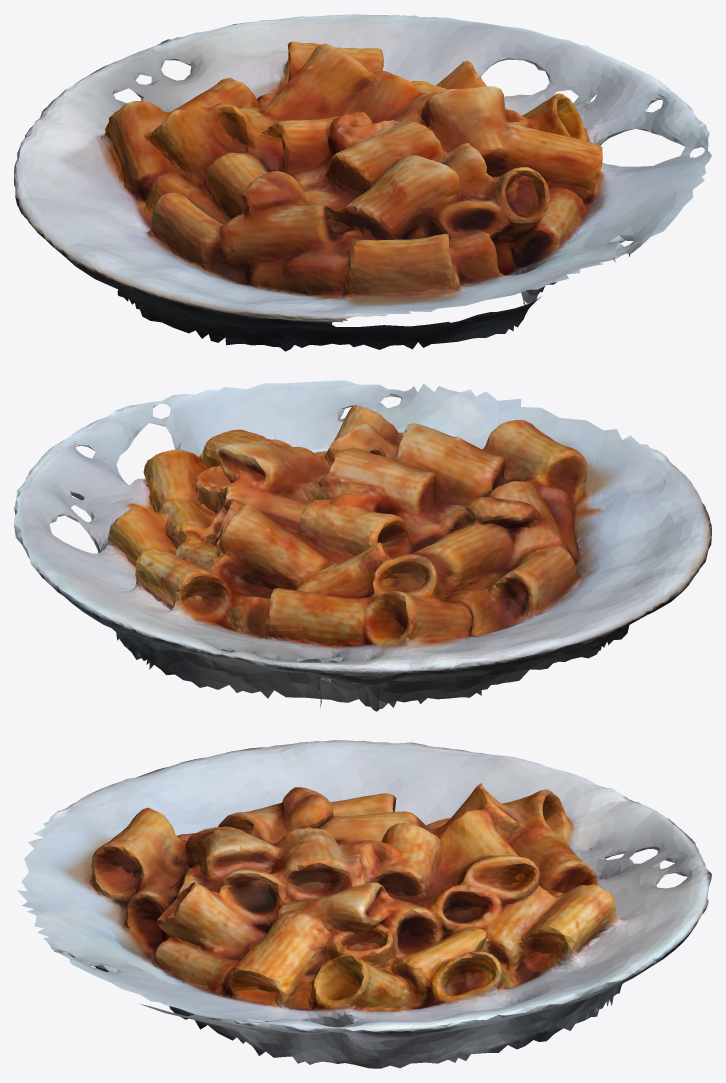
Rendered from vista-pasta.glb.
3 views of the same model, one above another, from view 1: azimuth 30°, elevation 25°; view 2: azimuth 150°, elevation 25°; view 3: azimuth 270°, elevation 25° (orthographic).
Parts seen in each view (by area): view 1: pasta-plate; view 2: pasta-plate; view 3: pasta-plate.
Part boxes in pixels (x1=…): pasta-plate: x1=14, y1=14, x2=711, y2=351; pasta-plate: x1=14, y1=380, x2=711, y2=711; pasta-plate: x1=17, y1=740, x2=711, y2=1068.
Bounding box in the file's own units: 0.2592 × 0.0525 × 0.2538.
1 material, 1 textured.
